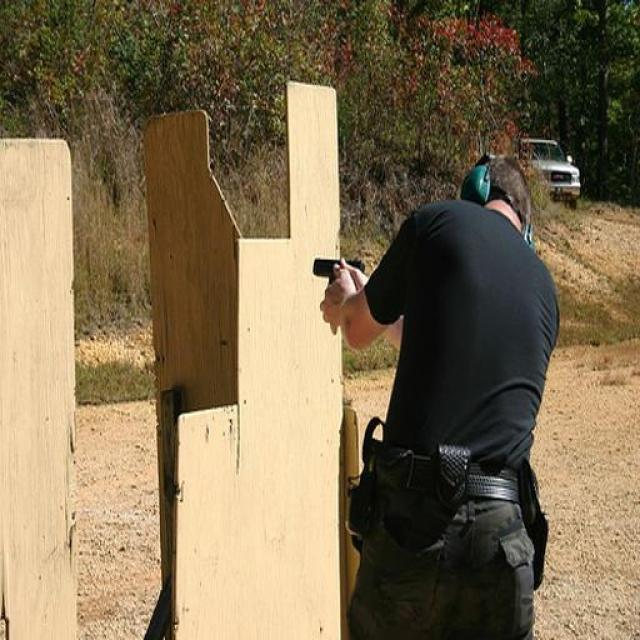pistol: (311, 255, 365, 295)
